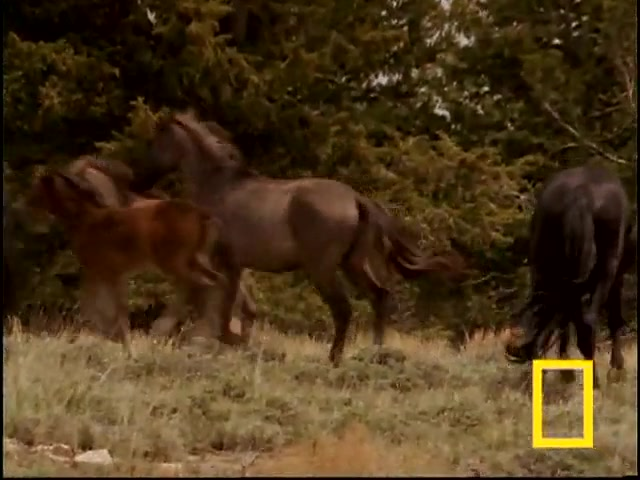horse: (139, 111, 468, 372)
